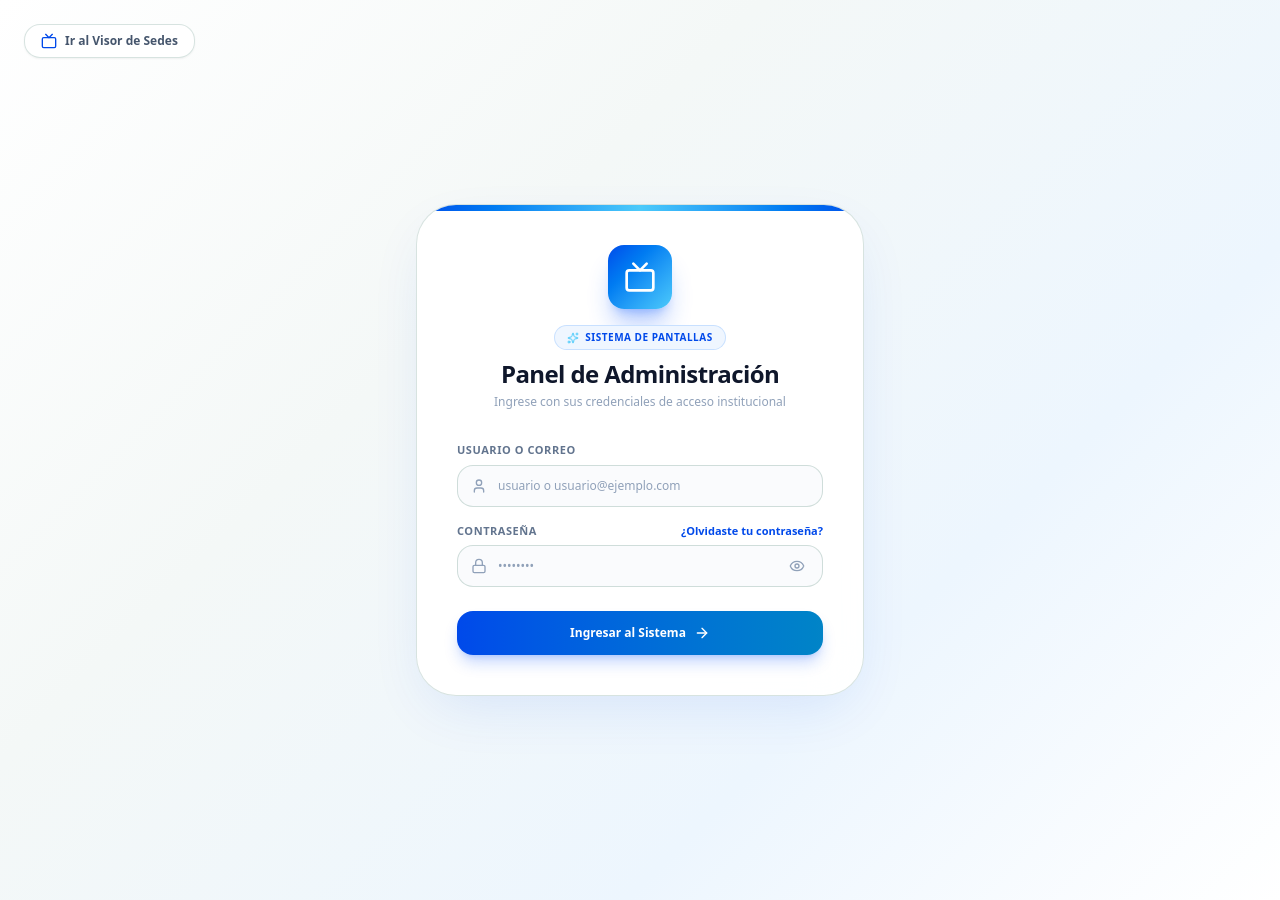
Test: AdminLogin Component and Password Recovery › opens recovery modal when "¿Olvidaste tu contraseña?" is clicked
The width and height of the screenshot is (1280, 900).
Click the button "¿Olvidaste tu contraseña?": (752, 531) [681,522,823,539]
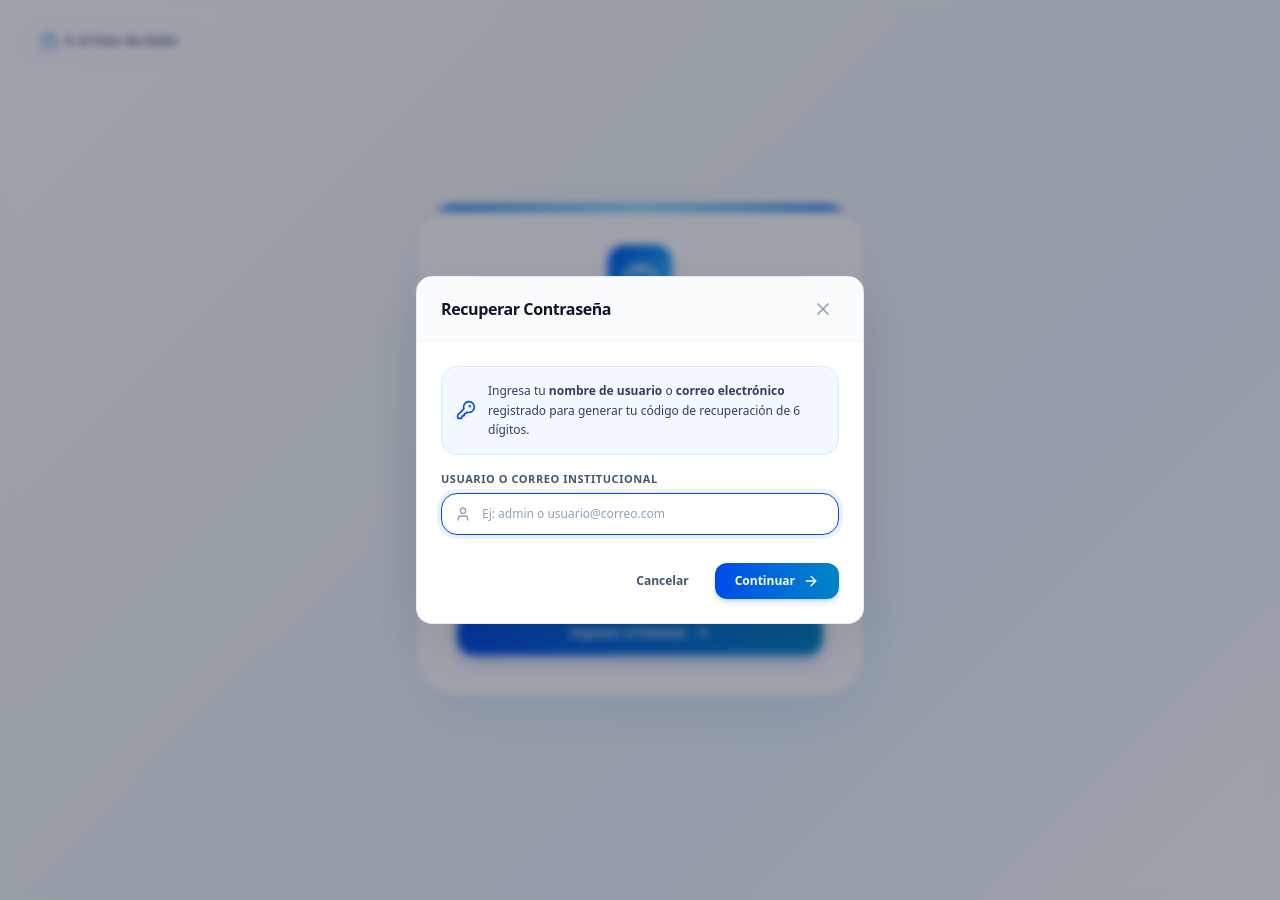
Now the heading "Recuperar Contraseña" is shown, box [441,297,611,321]
Now the field with placeholder "Ej: admin o usuario@correo.com" is shown, box [441,493,839,535]
Now the button "Continuar" is shown, box [715,563,839,599]
